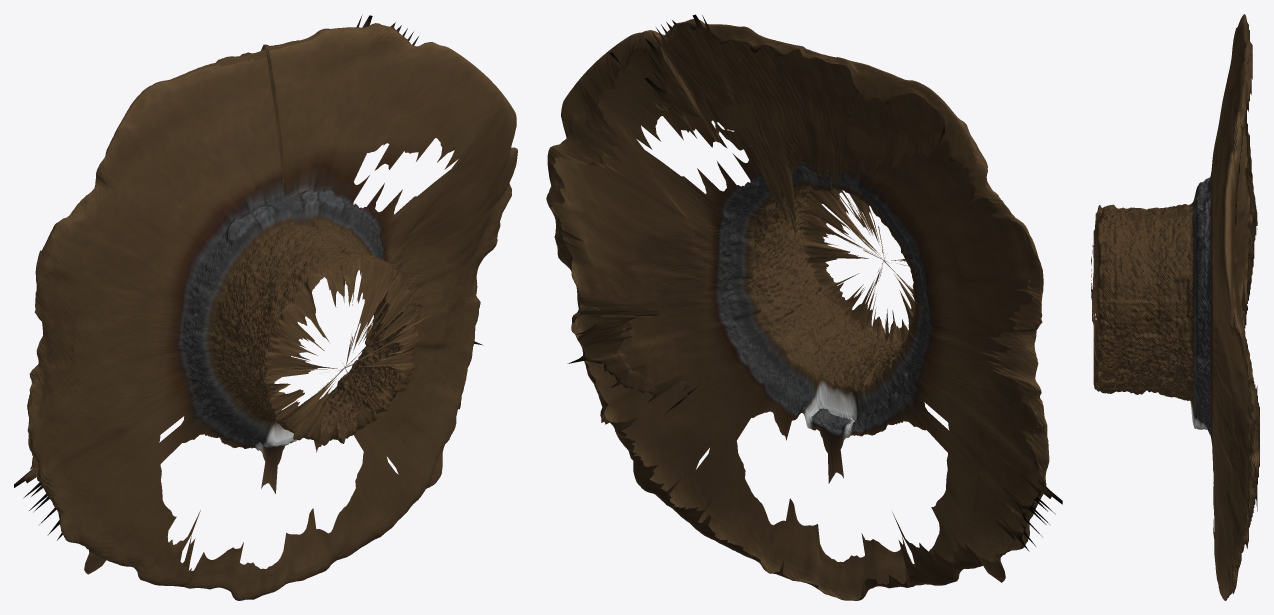
The picture shows the model from 3 angles, left to right: view 1: azimuth 30°, elevation 25°; view 2: azimuth 150°, elevation 25°; view 3: azimuth 270°, elevation 25°; orthographic projection. The views are drawn at different scales.
Visible parts, largest first — view 1: geometry_0; view 2: geometry_0; view 3: geometry_0.
Part boxes in pixels (bbox=[...]): geometry_0: bbox=[14, 15, 517, 600]; geometry_0: bbox=[546, 14, 1062, 600]; geometry_0: bbox=[1091, 14, 1259, 600].
Bounding box in the file's own units: 1.8 × 1.88 × 0.5431.
1 material, 1 textured.
